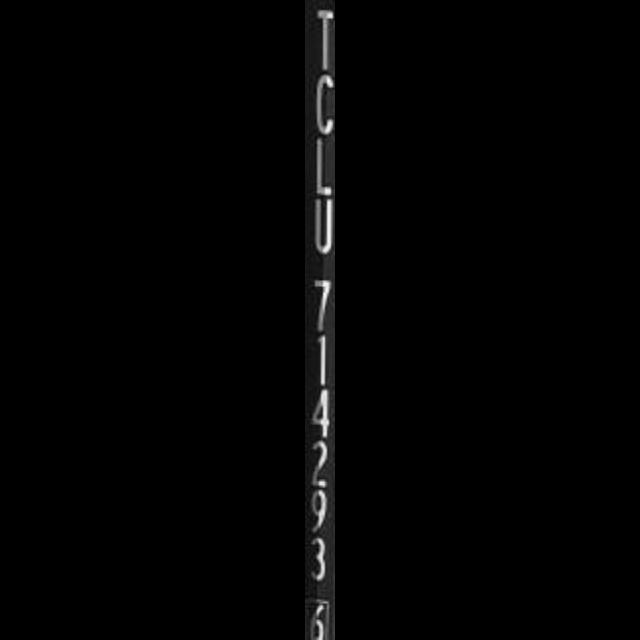1: (305, 334, 335, 388)
2: (305, 440, 335, 490)
3: (305, 534, 335, 584)
4: (305, 384, 335, 444)
6: (305, 586, 335, 640)
9: (305, 486, 335, 532)
c: (305, 70, 335, 138)
l: (305, 134, 335, 198)
t: (305, 1, 335, 74)
u: (305, 195, 335, 258)
y: (305, 274, 335, 330)
